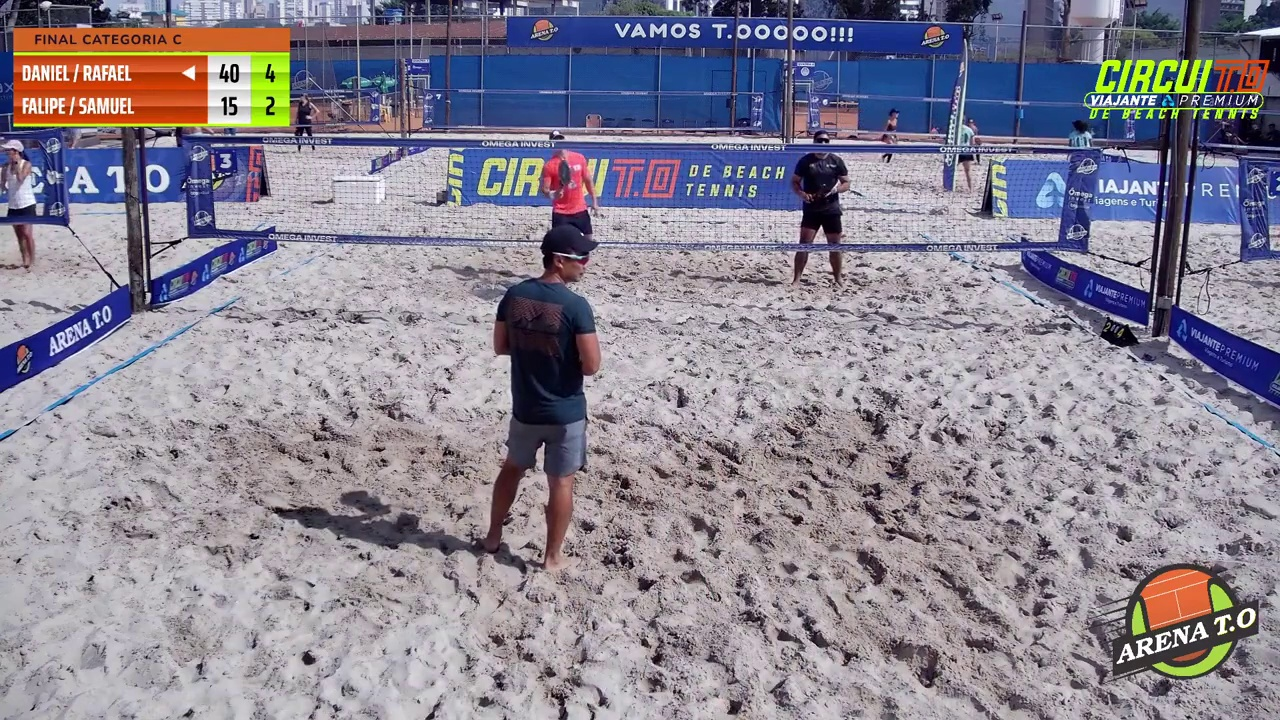court_line: (642, 0, 798, 395)
